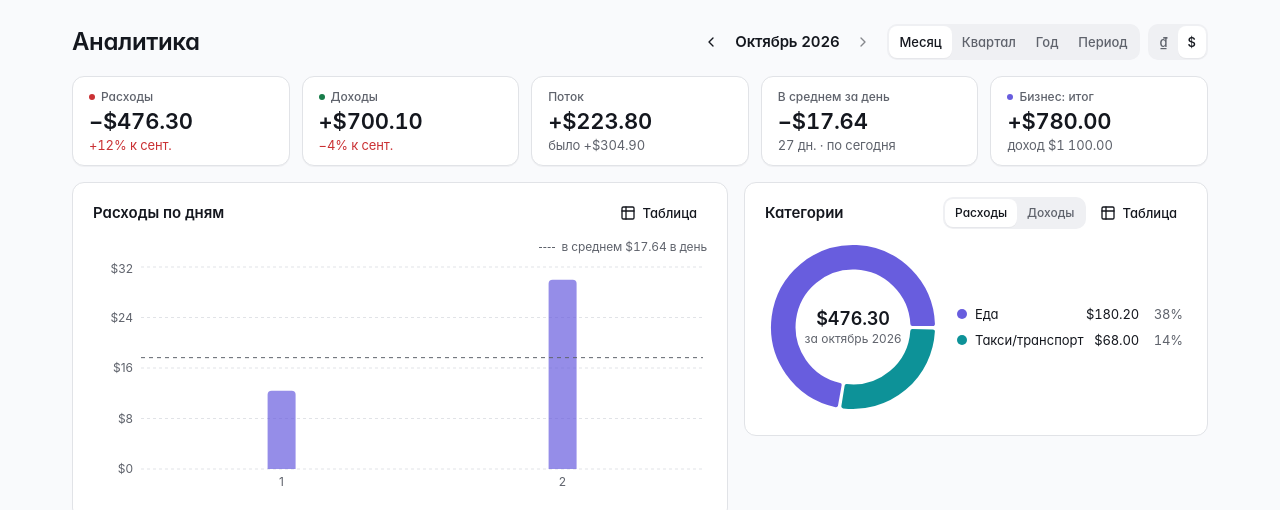
Test: AnalyticsView › every chart has a table view; comparison pairs show Δ
Click the button "Таблица" in the row of "Расходы по дням" at (659, 213), box [610,197,707,229]
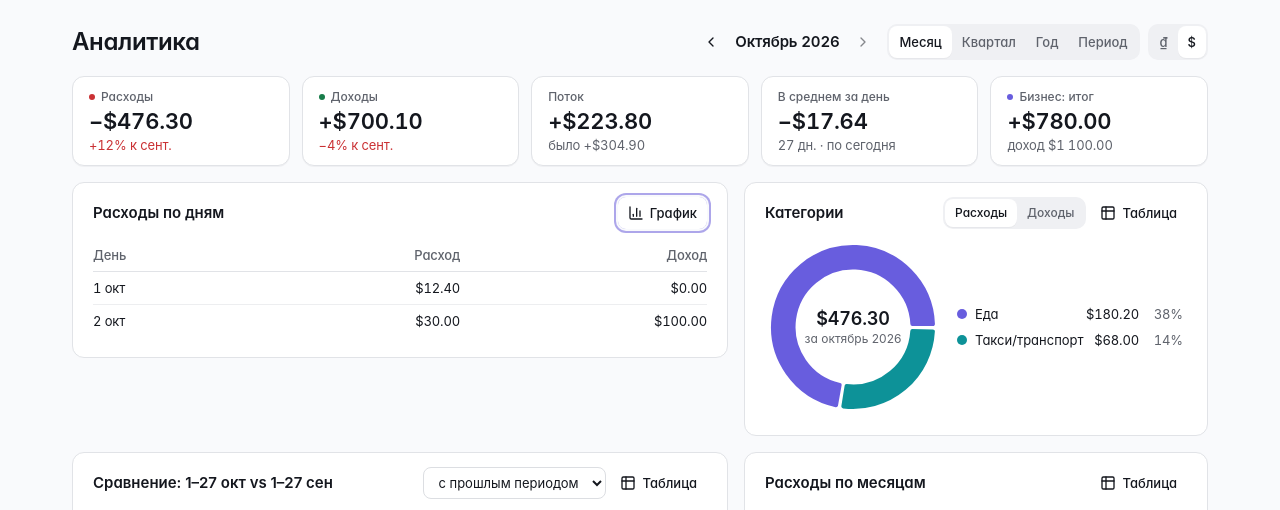
Result: the table is shown at [93,239,707,337]
Result: the text "$12.40" is shown at [247,272,460,304]
